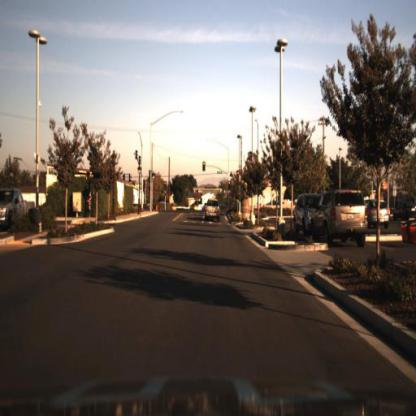car: (310, 184, 369, 245), (0, 186, 36, 235), (290, 192, 322, 240), (204, 197, 220, 221)
trafficLight-Red: (236, 164, 241, 181), (225, 175, 232, 187), (201, 160, 206, 173), (162, 178, 167, 188)
